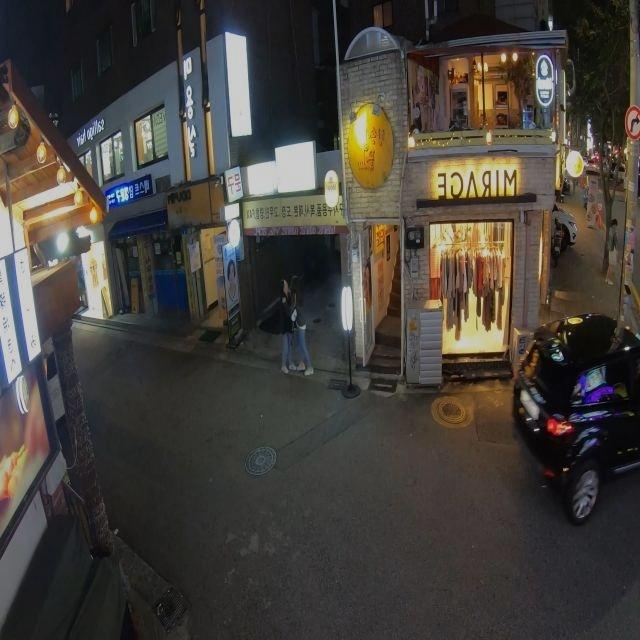non-fight: (277, 278, 308, 375)
